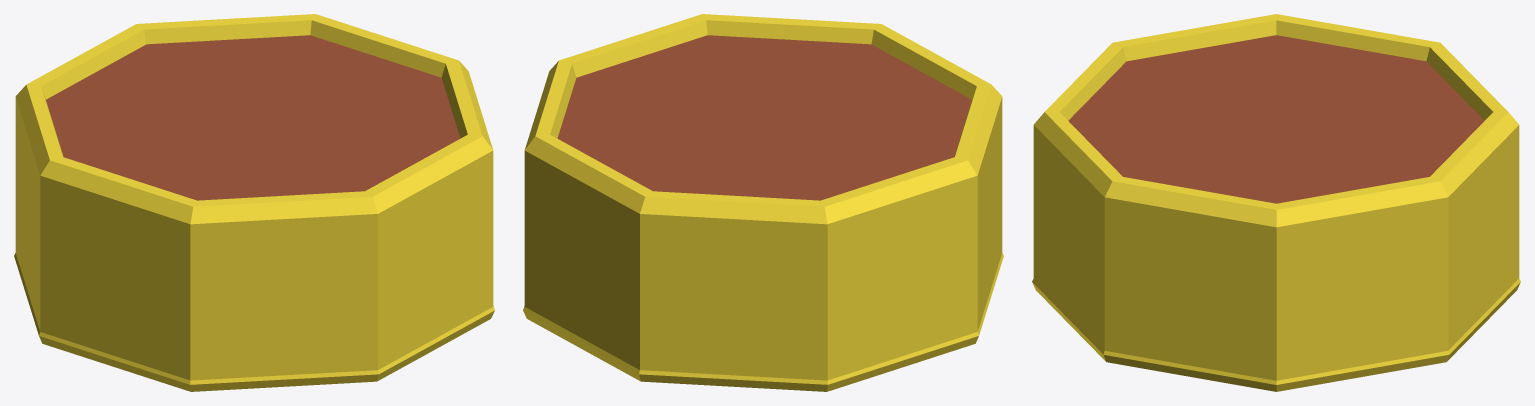
The model's file is RedPepperTuna Installer.fbx.
3 views of the same model, side by side, from view 1: azimuth 30°, elevation 25°; view 2: azimuth 150°, elevation 25°; view 3: azimuth 270°, elevation 25° (orthographic).
Visible parts, largest first — view 1: pCylinder1; view 2: pCylinder1; view 3: pCylinder1.
Boxes of the visible parts, x1,y1,x2,y2 form: pCylinder1: (14,14,494,391); pCylinder1: (523,14,1003,391); pCylinder1: (1032,14,1520,391).
Size of the model in its own units: 2.01 by 0.833 by 2.01.
